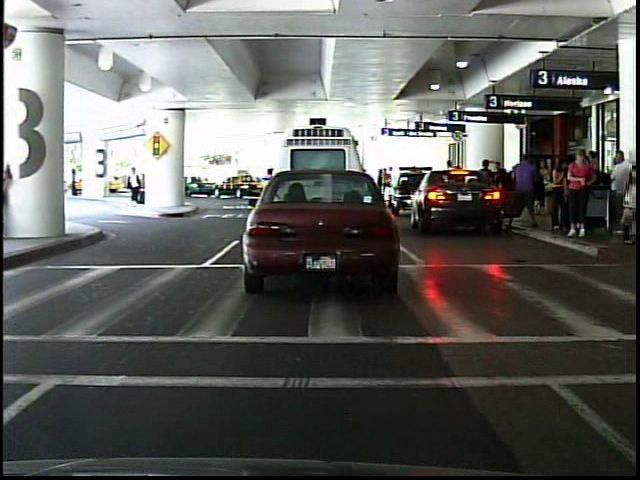person: (564, 146, 599, 244), (121, 161, 152, 210), (68, 163, 83, 201)
